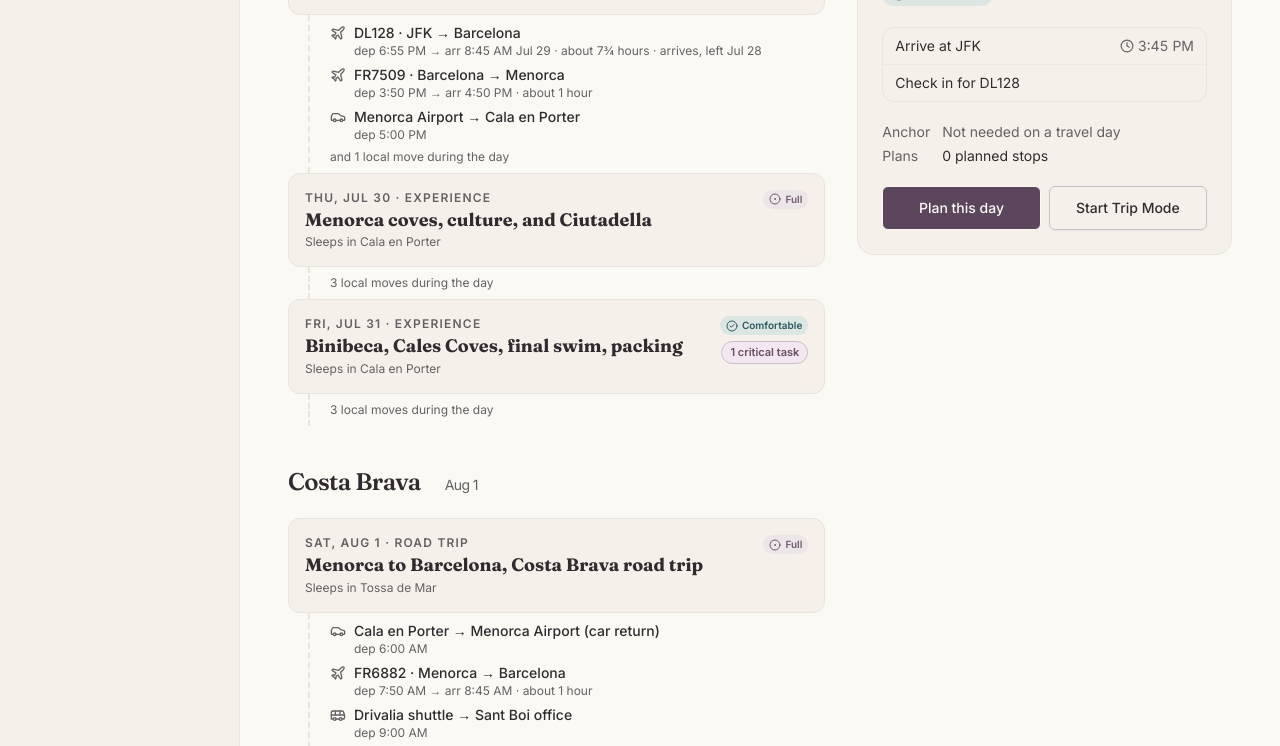
Test: Itinerary — wide (≥1024px) › selecting a day puts it in the URL, moves aria-current, updates the panel, and announces it
(page scrolled)
Click the link with aria-label "Fri Jul 31" at point(557, 347), box [288,299,825,394]
(page scrolled)
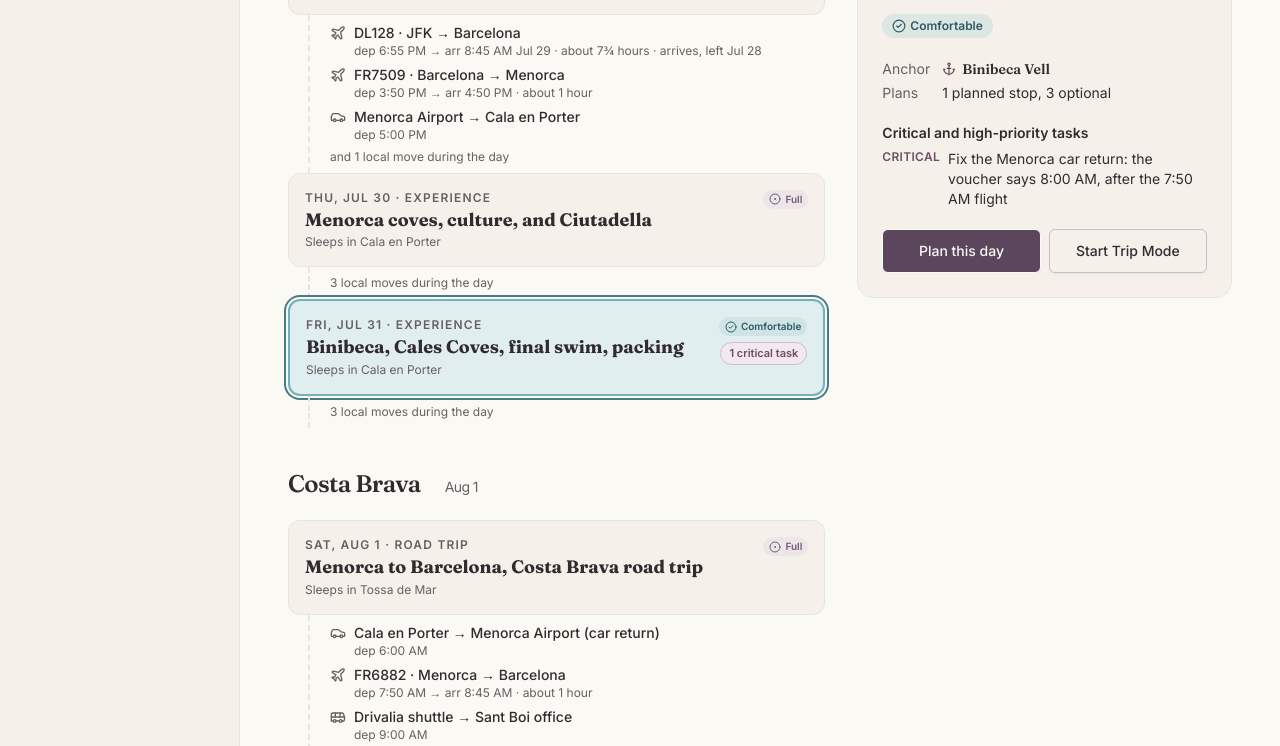
Expected: the text "Binibeca Vell" is shown, [962,59,1050,79]
